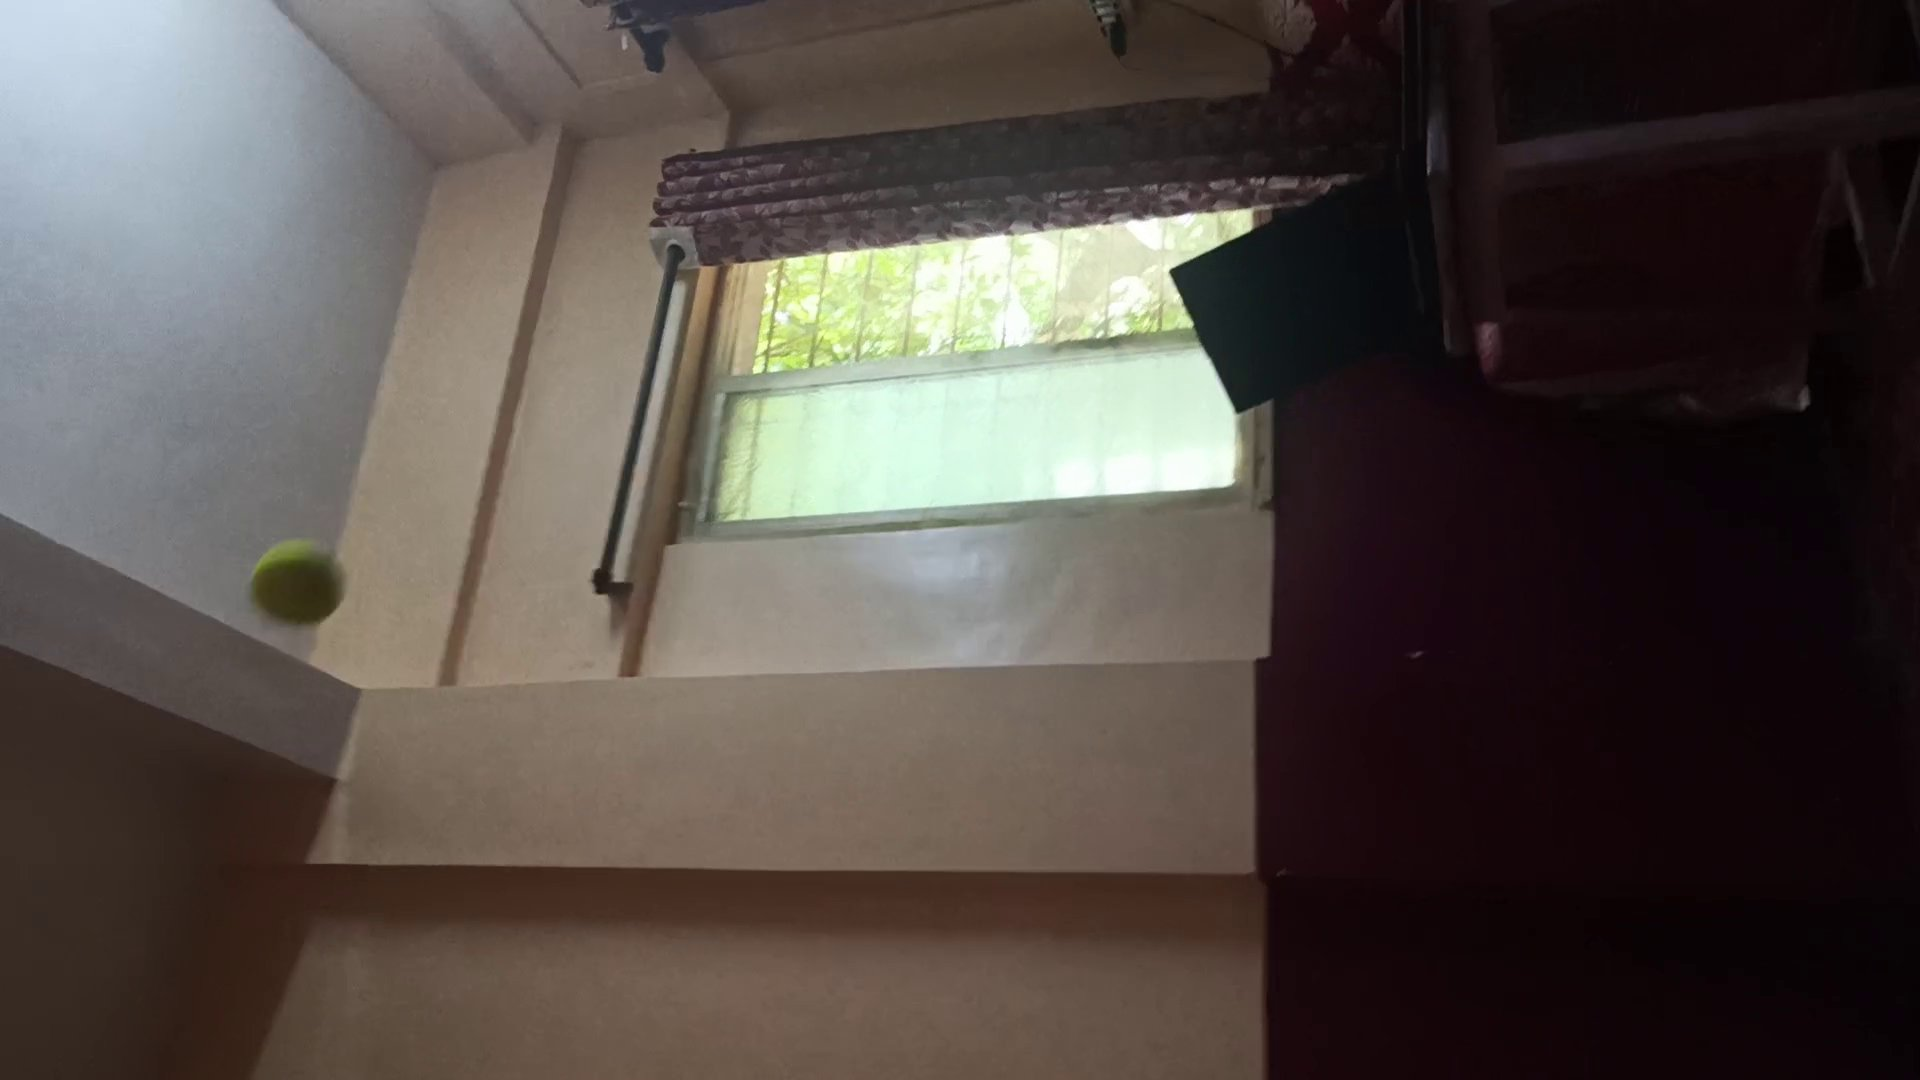Tennis-Ball: (249, 539, 347, 624)
